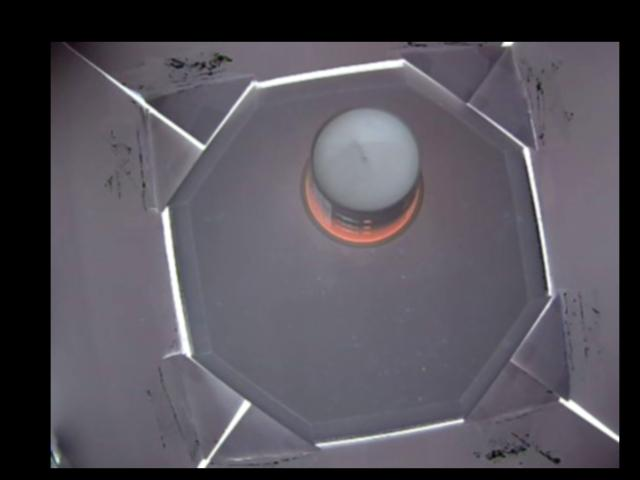Cup: (300, 104, 423, 248)
